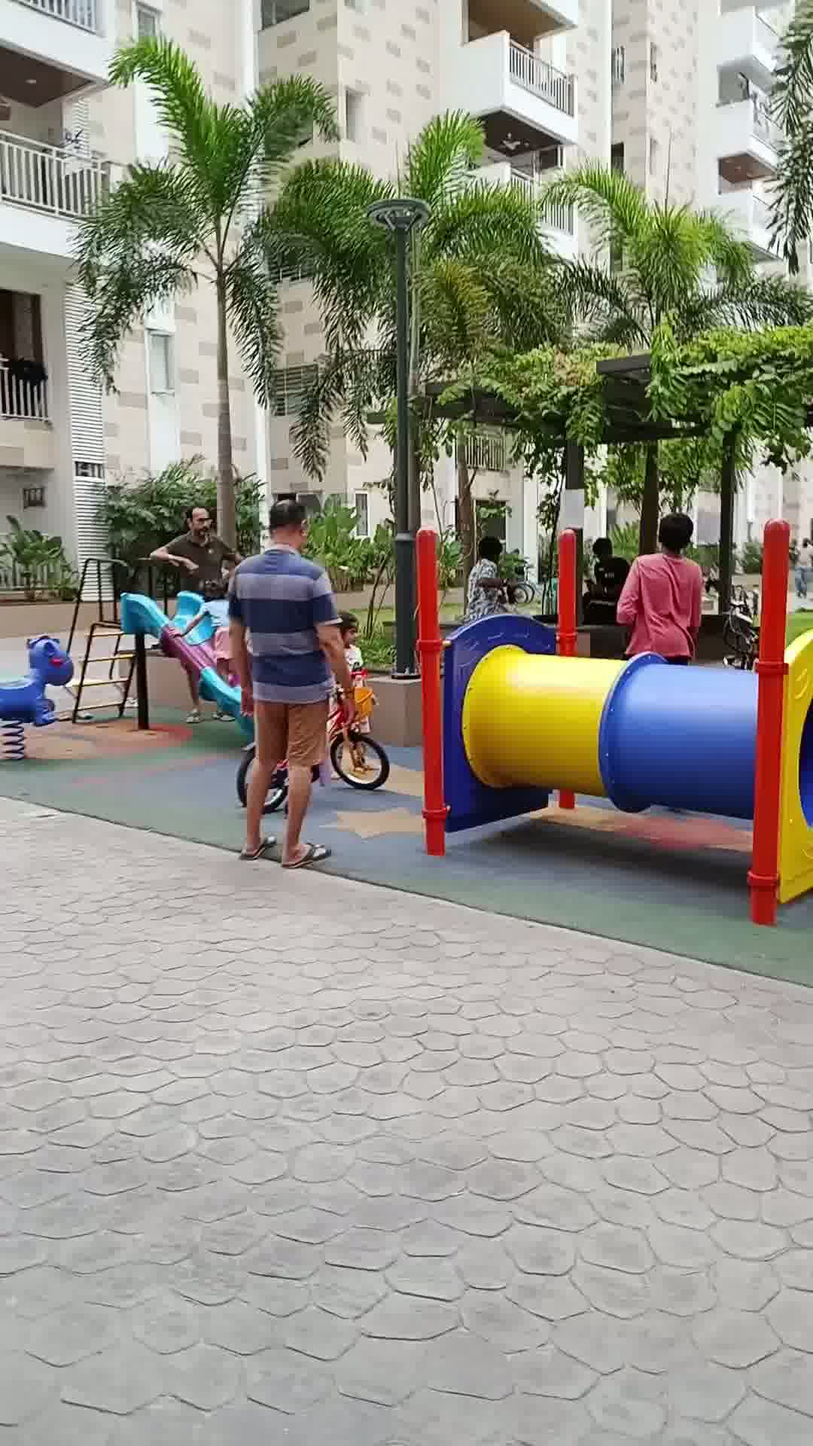bicycle: (202, 692, 430, 806)
person: (213, 455, 373, 882), (612, 487, 714, 689), (134, 481, 242, 621), (452, 512, 509, 626)
tree: (65, 20, 330, 601), (262, 94, 484, 564), (558, 125, 714, 615), (657, 205, 813, 638)
